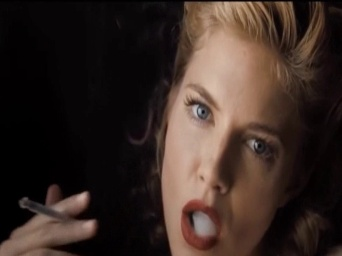smoke: (17, 196, 76, 224)
